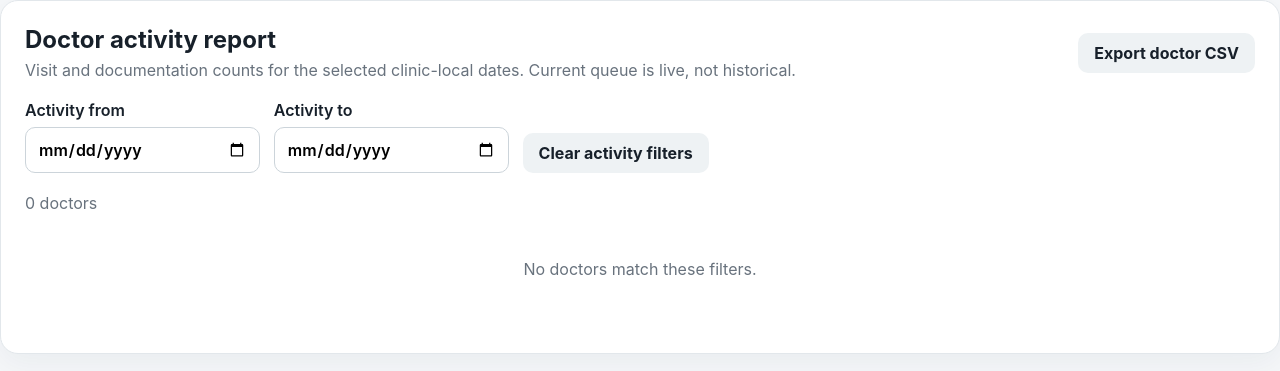
it: Doctor Activity report actor boundary › blocks invalid date range before querying or exporting
In the date field labelled "Activity from": (142, 150) [25,127,260,173], type "2026-10-17"
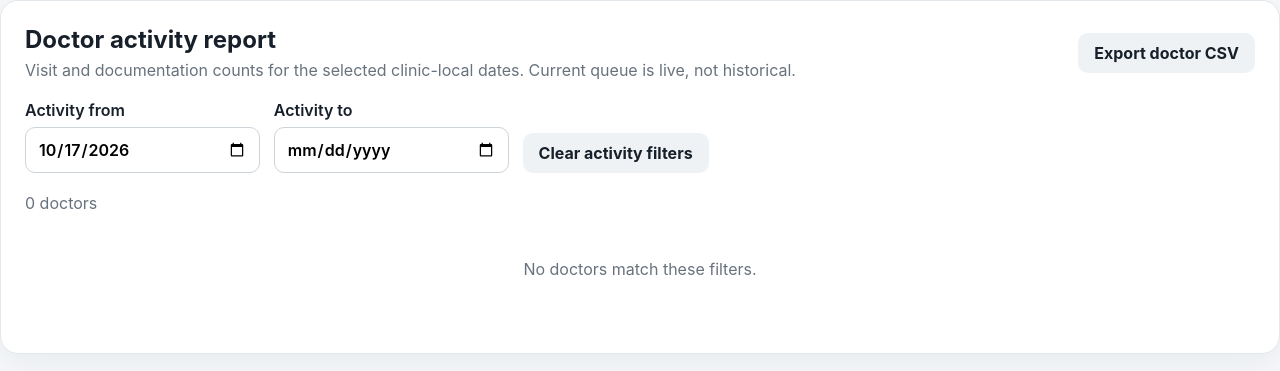
In the date field labelled "Activity to": (391, 150) [274,127,509,173], type "2026-10-01"
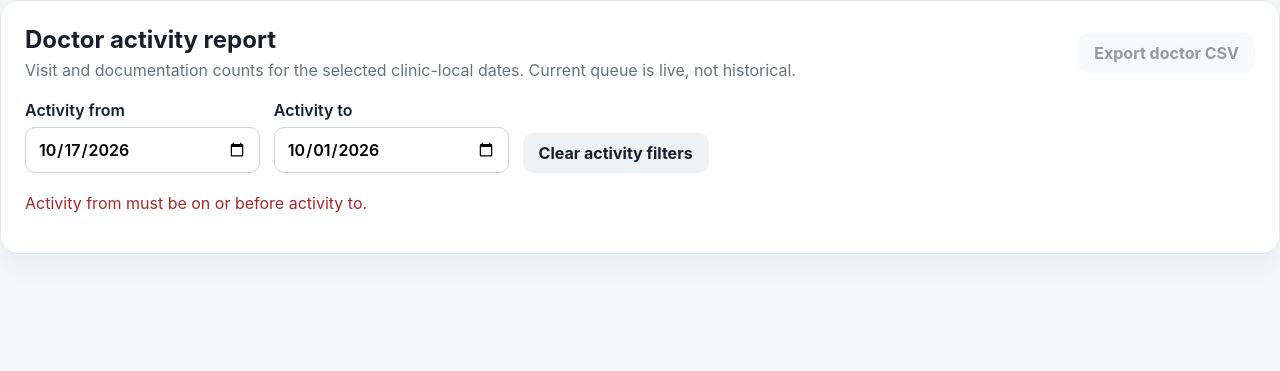
Expected: the message shows "on or before", [25,193,367,213]
Expected: the button "Export doctor CSV" is disabled, [1078,32,1255,72]
